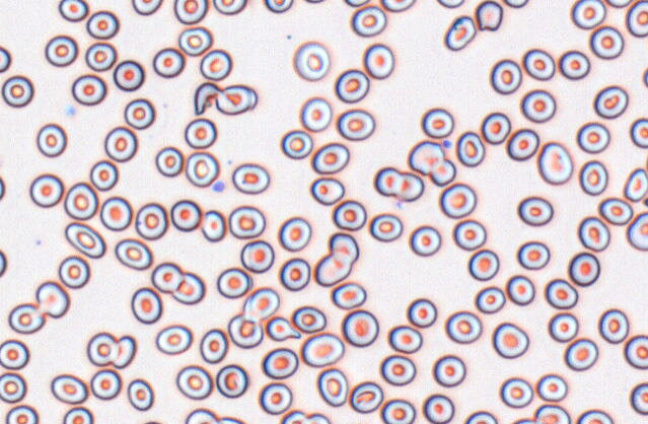PLT: (212, 180, 226, 193), (64, 104, 76, 117), (441, 139, 453, 150)
RBC: (314, 232, 359, 286), (373, 166, 424, 202), (537, 141, 573, 185), (292, 41, 330, 81), (64, 221, 105, 258), (301, 332, 344, 367), (341, 309, 379, 347), (492, 321, 529, 358), (175, 364, 213, 400), (438, 182, 476, 218), (63, 181, 98, 220), (407, 140, 445, 175), (35, 280, 70, 318), (215, 84, 257, 115), (134, 202, 168, 240), (336, 108, 375, 141), (316, 367, 348, 407), (227, 313, 263, 348), (242, 286, 279, 320), (445, 310, 482, 344), (228, 205, 265, 239), (114, 237, 152, 270), (334, 68, 369, 103), (185, 151, 219, 187), (520, 89, 556, 123), (104, 125, 137, 162), (130, 286, 162, 324), (231, 162, 269, 194), (311, 142, 349, 174), (277, 216, 311, 251), (589, 25, 624, 59), (593, 85, 628, 119), (489, 58, 522, 94), (8, 302, 45, 334), (261, 347, 298, 379), (379, 354, 416, 386), (50, 373, 88, 404), (258, 381, 292, 415), (564, 337, 598, 371), (240, 239, 274, 273), (29, 173, 63, 207), (215, 363, 248, 398), (348, 380, 383, 413), (99, 196, 132, 231), (299, 96, 332, 131), (577, 216, 610, 251), (444, 15, 476, 51), (351, 5, 387, 37), (155, 324, 192, 355), (171, 271, 205, 304), (432, 354, 466, 387), (86, 331, 118, 366), (58, 254, 90, 289), (331, 199, 366, 231), (568, 251, 600, 286), (71, 73, 106, 105), (216, 267, 252, 298), (517, 195, 553, 226), (598, 308, 629, 344), (363, 43, 394, 79), (506, 128, 539, 161), (44, 34, 77, 67), (452, 218, 486, 250), (576, 121, 610, 153), (36, 122, 67, 157), (578, 159, 608, 195), (456, 130, 485, 167), (150, 261, 183, 293), (199, 48, 232, 80), (408, 224, 441, 256), (467, 248, 499, 281), (184, 117, 217, 149), (1, 74, 33, 107), (522, 48, 555, 80), (499, 377, 533, 408), (279, 257, 310, 291), (544, 278, 578, 309), (570, 0, 606, 29), (89, 368, 121, 400), (112, 59, 144, 91), (152, 47, 185, 78), (480, 111, 511, 144), (421, 107, 454, 138), (178, 26, 212, 56), (516, 240, 550, 270), (199, 328, 228, 363), (309, 176, 344, 205), (387, 324, 422, 353), (598, 196, 633, 225), (330, 281, 366, 309), (170, 199, 201, 231), (123, 98, 155, 129), (558, 49, 590, 80), (369, 212, 402, 242), (280, 129, 313, 159), (291, 305, 326, 333), (406, 297, 437, 328), (422, 393, 454, 423), (84, 41, 116, 71), (86, 10, 119, 39), (547, 312, 578, 342), (505, 274, 535, 305), (0, 338, 29, 370), (89, 159, 118, 191), (126, 378, 154, 411), (380, 398, 416, 423), (474, 285, 505, 314), (536, 373, 567, 402), (155, 146, 183, 177), (200, 209, 226, 242), (626, 211, 647, 251), (623, 167, 647, 202), (112, 334, 136, 368), (173, 0, 207, 24), (625, 0, 647, 37), (0, 372, 26, 403), (624, 334, 647, 369), (429, 158, 456, 186), (533, 404, 570, 423), (58, 0, 88, 22), (5, 404, 38, 423), (630, 382, 647, 415), (629, 117, 647, 148), (576, 408, 613, 423), (184, 407, 218, 423), (62, 406, 93, 423), (212, 0, 246, 15), (131, 0, 162, 15), (463, 410, 497, 423), (380, 0, 415, 12), (264, 0, 293, 13), (279, 409, 305, 423), (303, 412, 330, 423), (0, 45, 11, 72), (217, 415, 245, 423), (436, 0, 464, 8), (606, 0, 632, 8), (503, 0, 529, 8), (0, 249, 7, 277), (344, 0, 370, 7), (511, 417, 536, 423), (0, 175, 5, 201), (642, 66, 647, 88), (141, 420, 163, 424), (304, 0, 325, 3)
Schistocyte: (194, 81, 223, 116), (266, 316, 303, 341), (475, 0, 504, 31)
